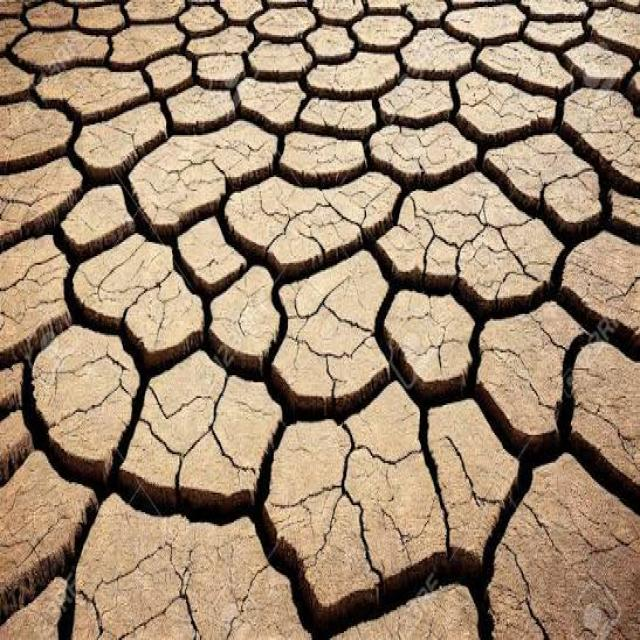suelo_seco: (166, 107, 502, 599)
